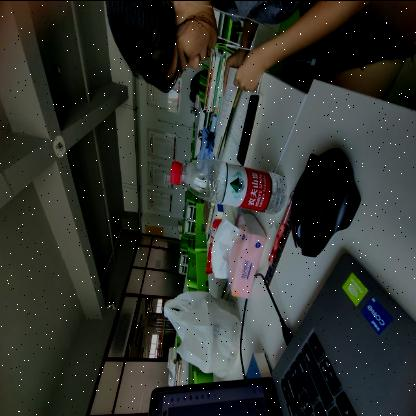Plastic Bottle: (169, 158, 287, 214)
